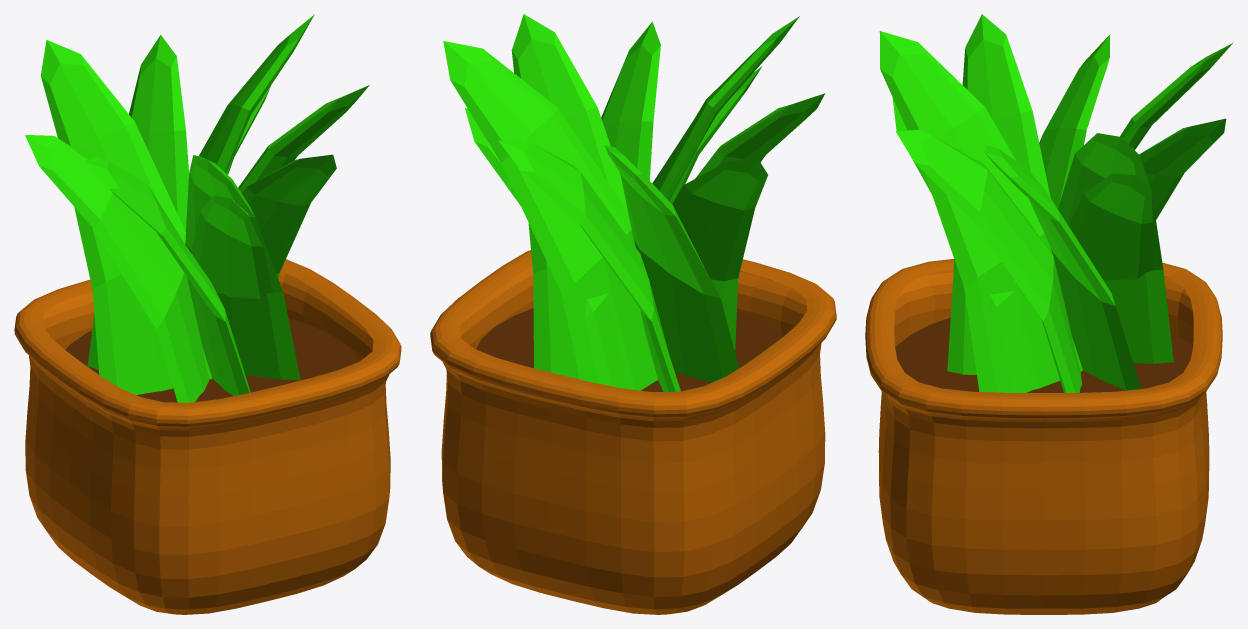
File: house plant.fbx
3 views of the same model, side by side, from view 1: azimuth 30°, elevation 25°; view 2: azimuth 150°, elevation 25°; view 3: azimuth 270°, elevation 25° (orthographic). The views are drawn at different scales.
Parts seen in each view (by area): view 1: Cube, Plane, Circle; view 2: Cube, Plane, Circle; view 3: Cube, Plane, Circle.
Boxes of the visible parts, x1,y1,x2,y2 form: Cube: (14,259,401,614); Plane: (25,14,369,402); Circle: (65,318,357,402); Cube: (430,250,836,614); Plane: (443,14,825,391); Circle: (476,308,782,391); Cube: (865,259,1222,614); Plane: (879,14,1232,392); Circle: (895,317,1192,392).
Size of the model in its own units: 175 by 275 by 179.
